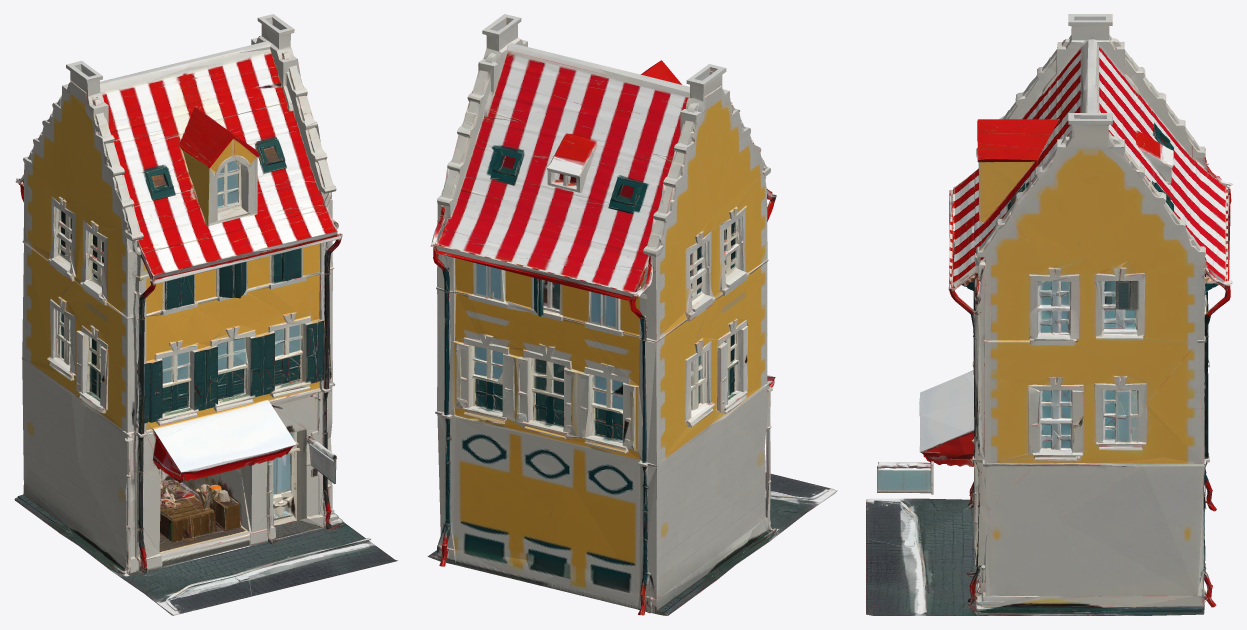
The model's file is shop_townhouse.glb.
3 views of the same model, side by side, from view 1: azimuth 30°, elevation 25°; view 2: azimuth 150°, elevation 25°; view 3: azimuth 270°, elevation 25° (orthographic). The views are drawn at different scales.
Size of the model in its own units: 0.9609 by 1.9 by 1.29.
1 material, 1 textured.
